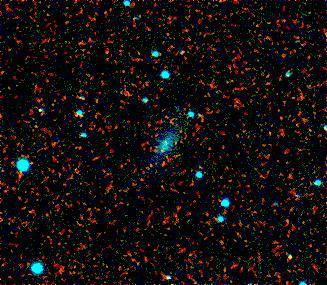star: (271, 243, 301, 273)
